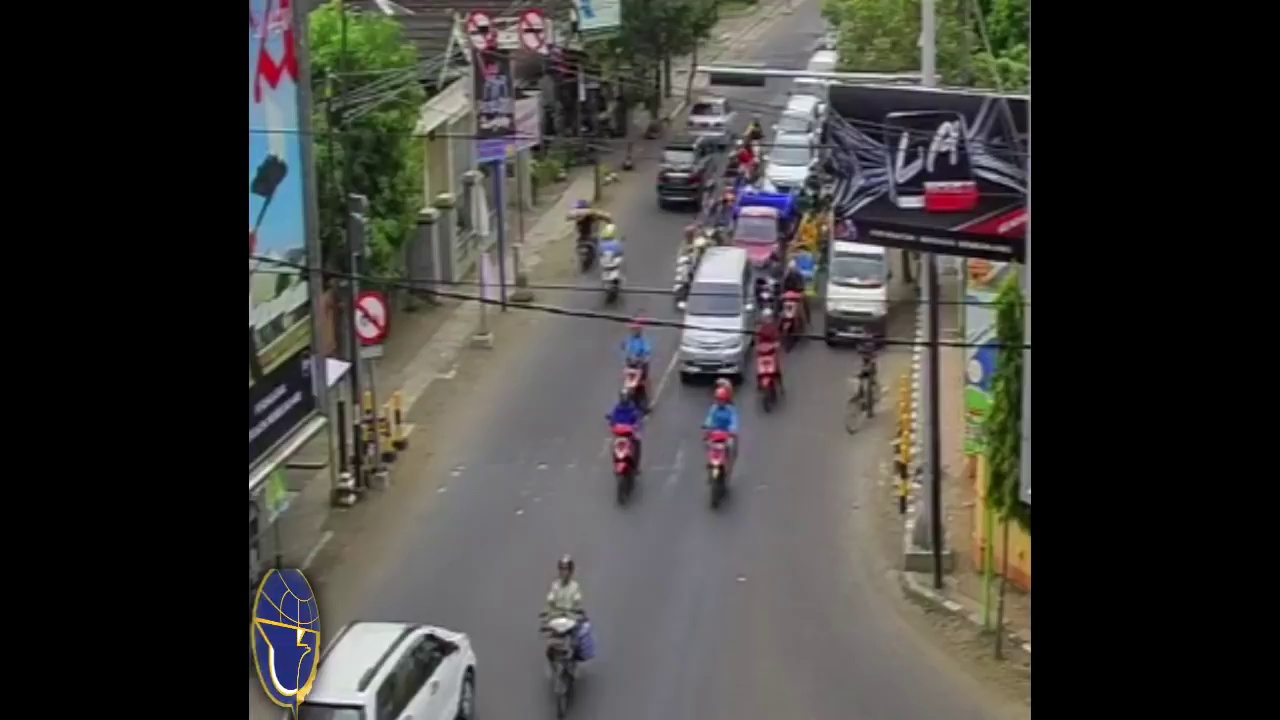car: (292, 615, 476, 720), (677, 242, 753, 393), (825, 236, 890, 352), (658, 130, 715, 215), (733, 206, 785, 287), (765, 133, 820, 201), (689, 92, 735, 141)
motorbike: (534, 554, 591, 720), (607, 391, 646, 508), (705, 381, 741, 506), (617, 321, 654, 414), (755, 308, 784, 418), (782, 264, 805, 351), (601, 223, 624, 307), (674, 226, 698, 295), (571, 202, 593, 275)
